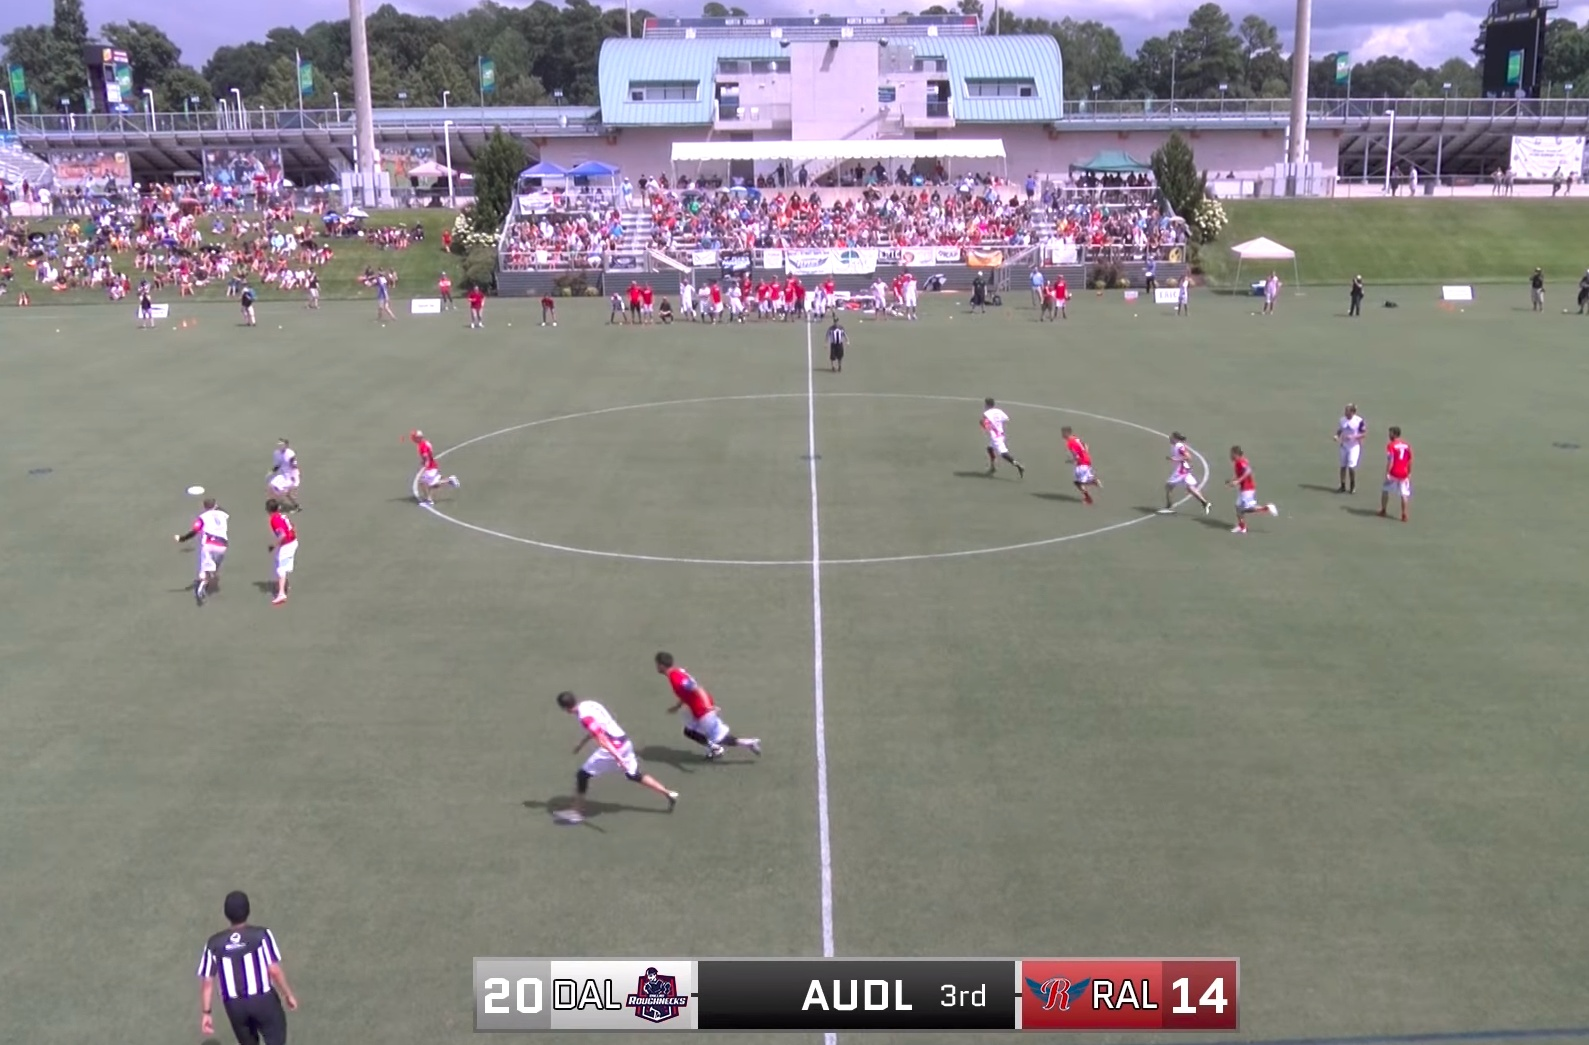frisbee: (187, 485, 205, 495)
